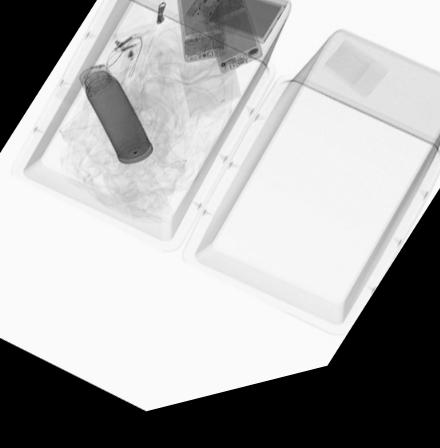Powerbank: (180, 0, 289, 57)
